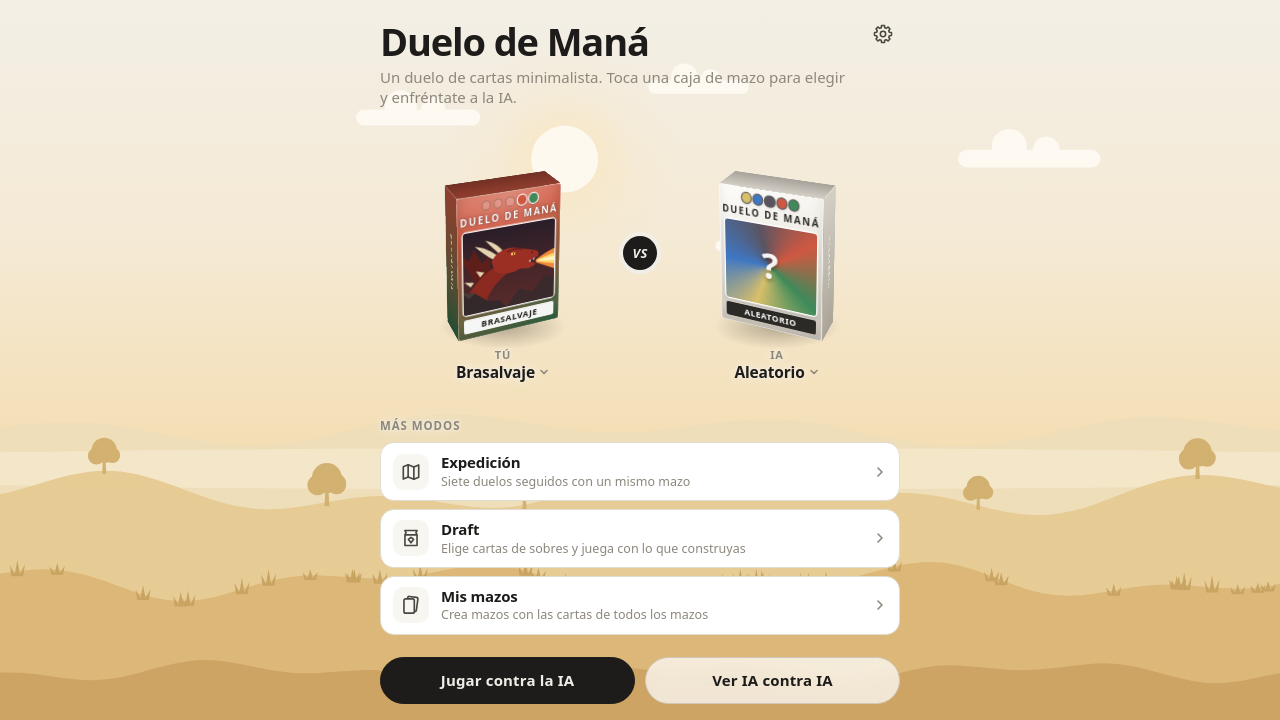
it: deck selection › plays the chosen deck against the chosen AI deck
Click the button with test id "seat-0" at (503, 263), box 380,132 -> 626,394
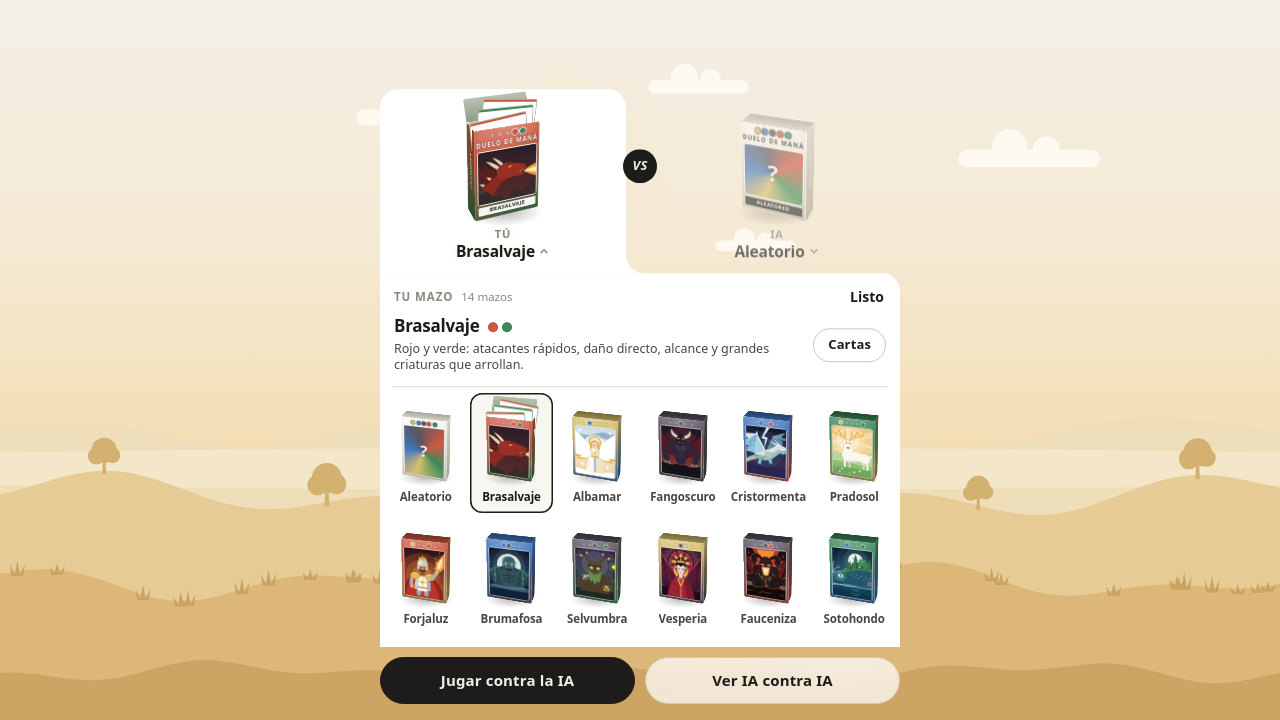
Click the radio button with test id "deck-dawntide" at (597, 395), box 555,335 -> 639,455
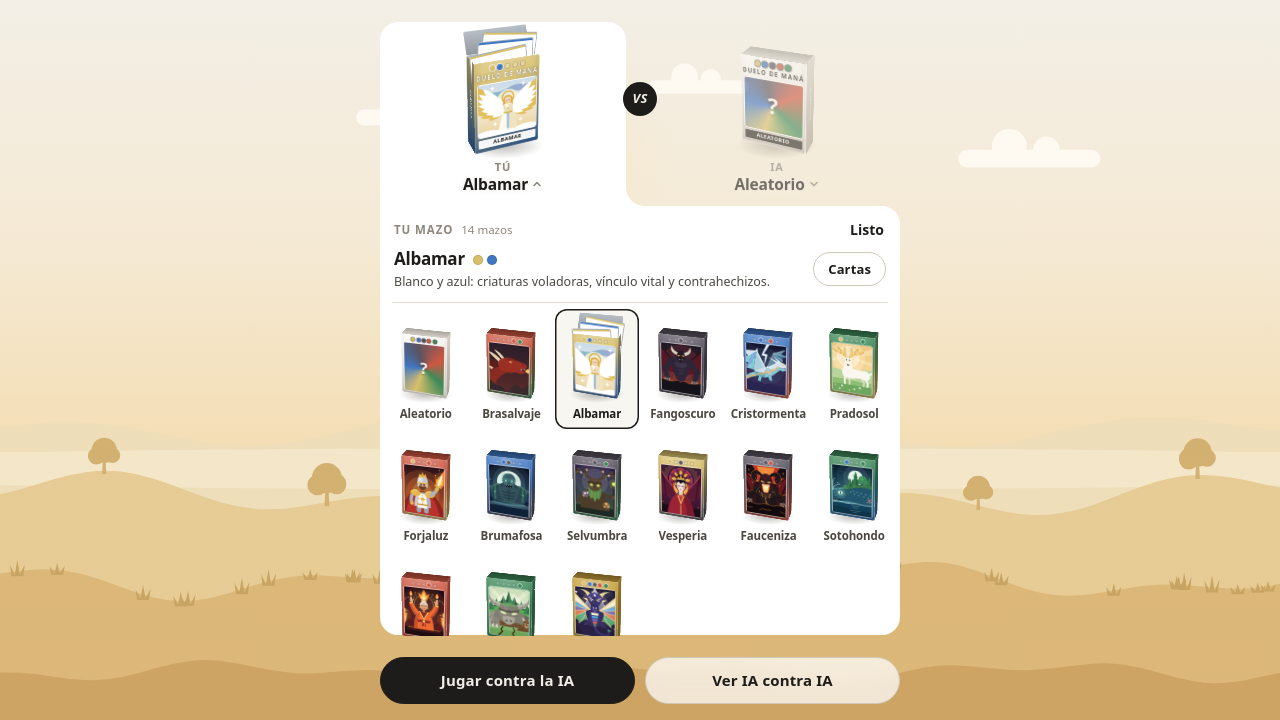
Check: the button with test id "seat-0" has attribute data-deck="dawntide", box 380,22 -> 626,206
Check: the button with test id "seat-0" has attribute aria-label="Tú: Albamar", box 380,22 -> 626,206
Click the button with test id "seat-1" at (777, 114), box 654,22 -> 900,206
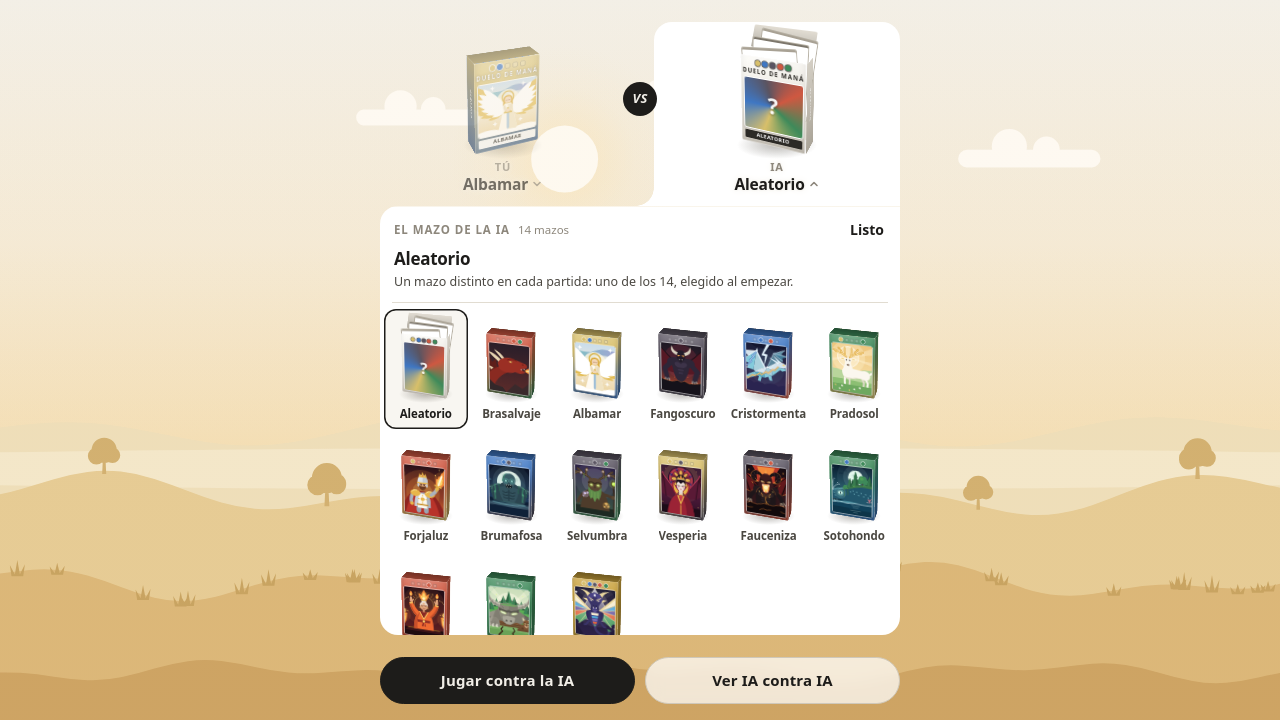
Click the radio button with test id "opponent-duskmire" at (683, 370), box 641,310 -> 725,430
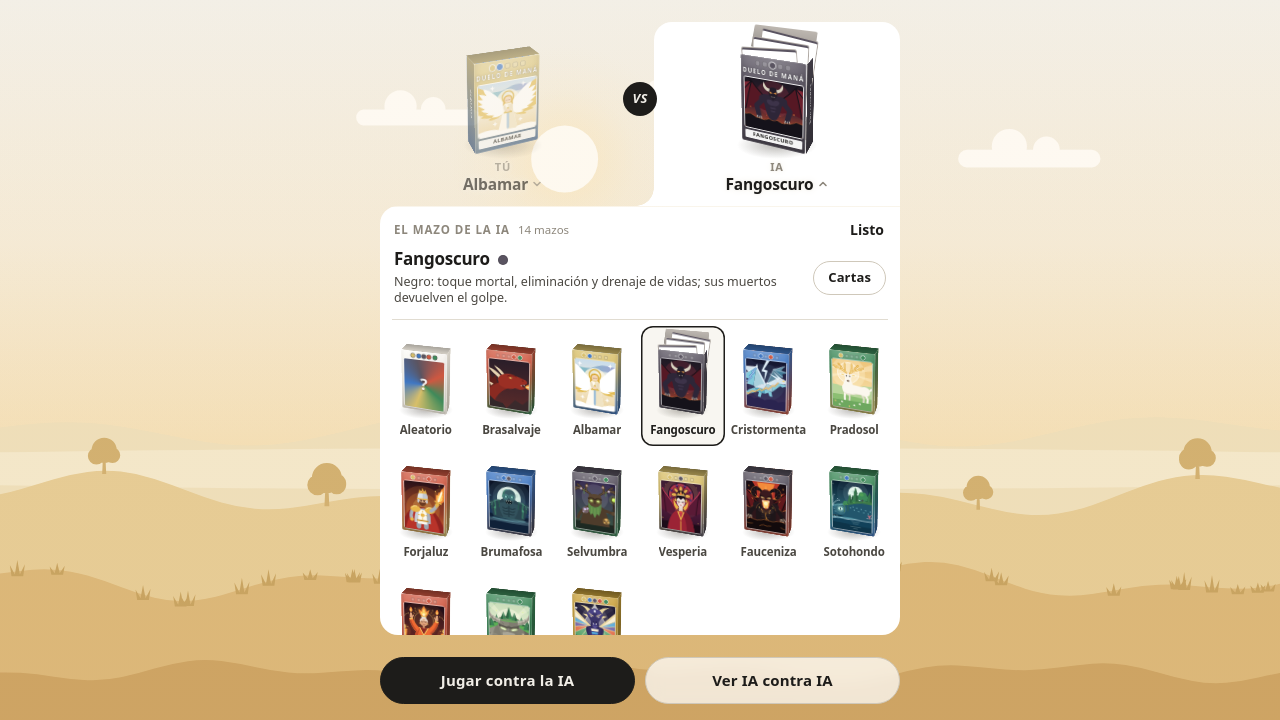
Check: the button with test id "seat-1" has attribute data-deck="duskmire", box 654,22 -> 900,206
Click the button with test id "btn-play" at (508, 680), box 380,656 -> 635,704
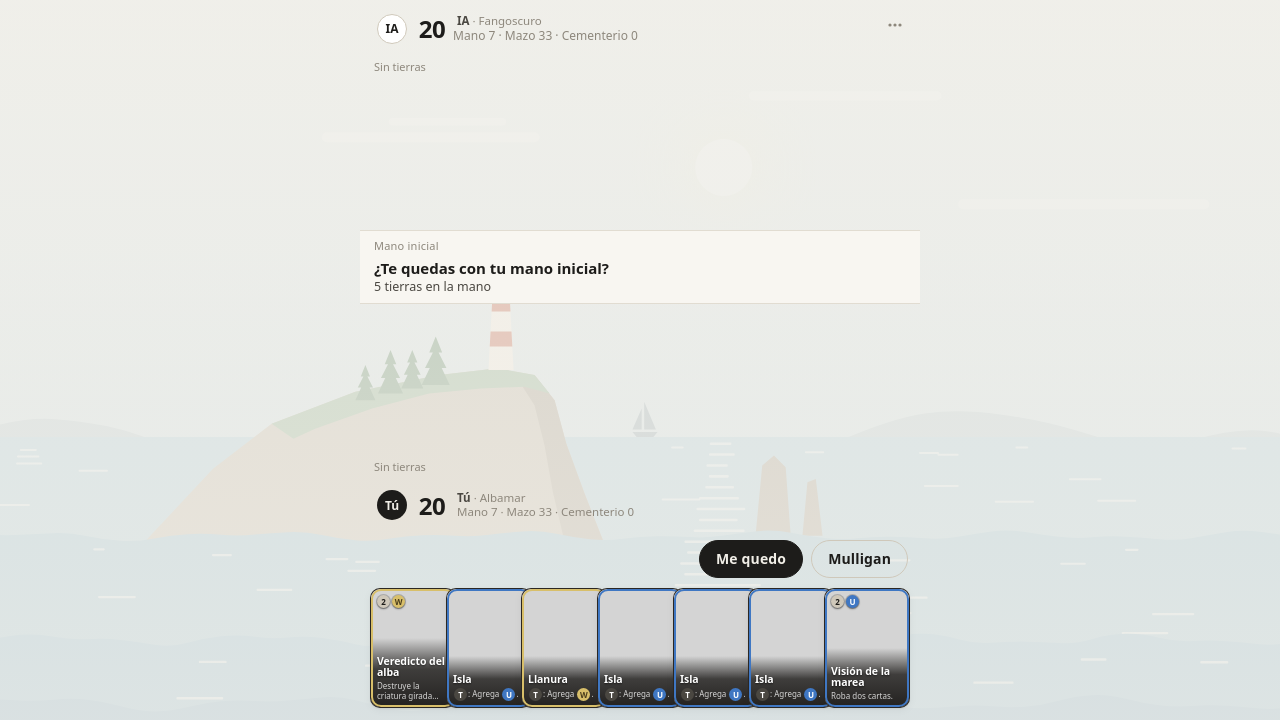
Check: the text with test id "deck-name-0" shows "Albamar", box 480,490 -> 526,505
Check: the text with test id "deck-name-1" shows "Fangoscuro", box 478,13 -> 542,28
